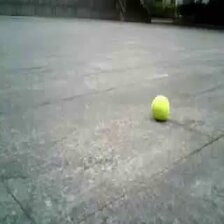tennis: (151, 96, 170, 118)
